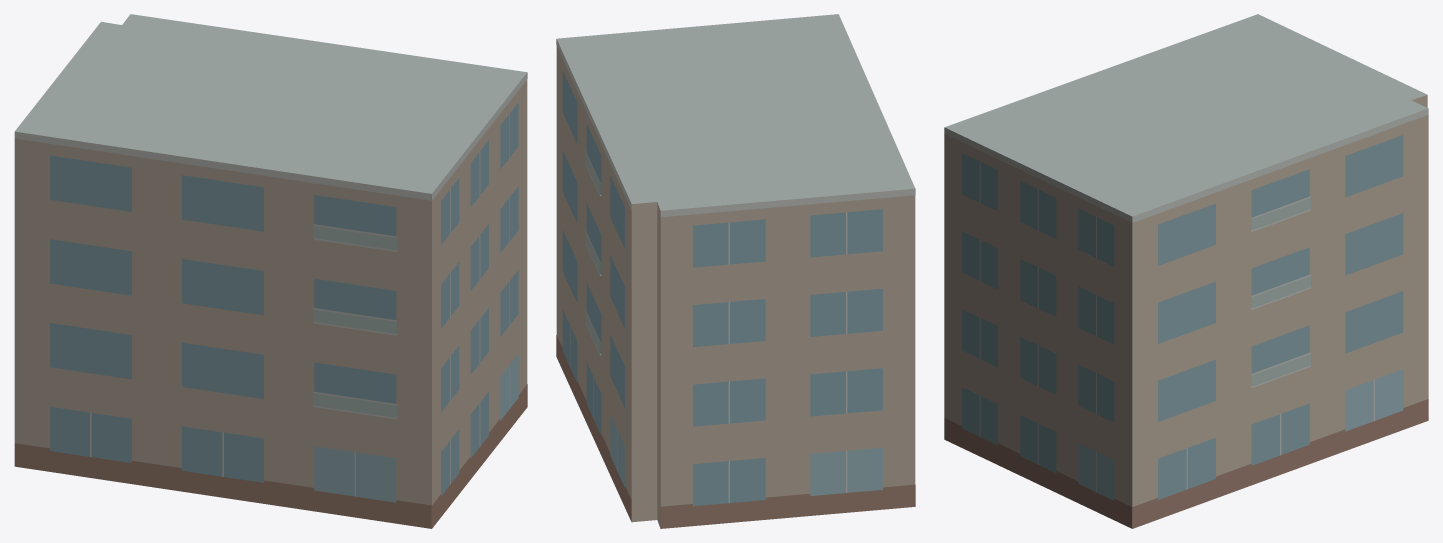
File: survey-upis-32893261.glb
The picture shows the model from 3 angles, left to right: view 1: azimuth 30°, elevation 25°; view 2: azimuth 150°, elevation 25°; view 3: azimuth 270°, elevation 25°; orthographic projection. The views are drawn at different scales.
Parts seen in each view (by area): view 1: survey-upis-32893261.tmp; view 2: survey-upis-32893261.tmp; view 3: survey-upis-32893261.tmp.
Boxes of the visible parts, bbox=[...] form: survey-upis-32893261.tmp: bbox=[14, 14, 527, 528]; survey-upis-32893261.tmp: bbox=[556, 14, 915, 528]; survey-upis-32893261.tmp: bbox=[944, 14, 1428, 528].
Size of the model in its own units: 16.57 by 11.9 by 16.73.
